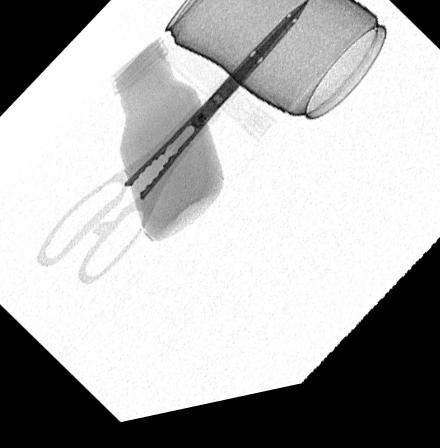Scissors: (37, 11, 310, 289)
